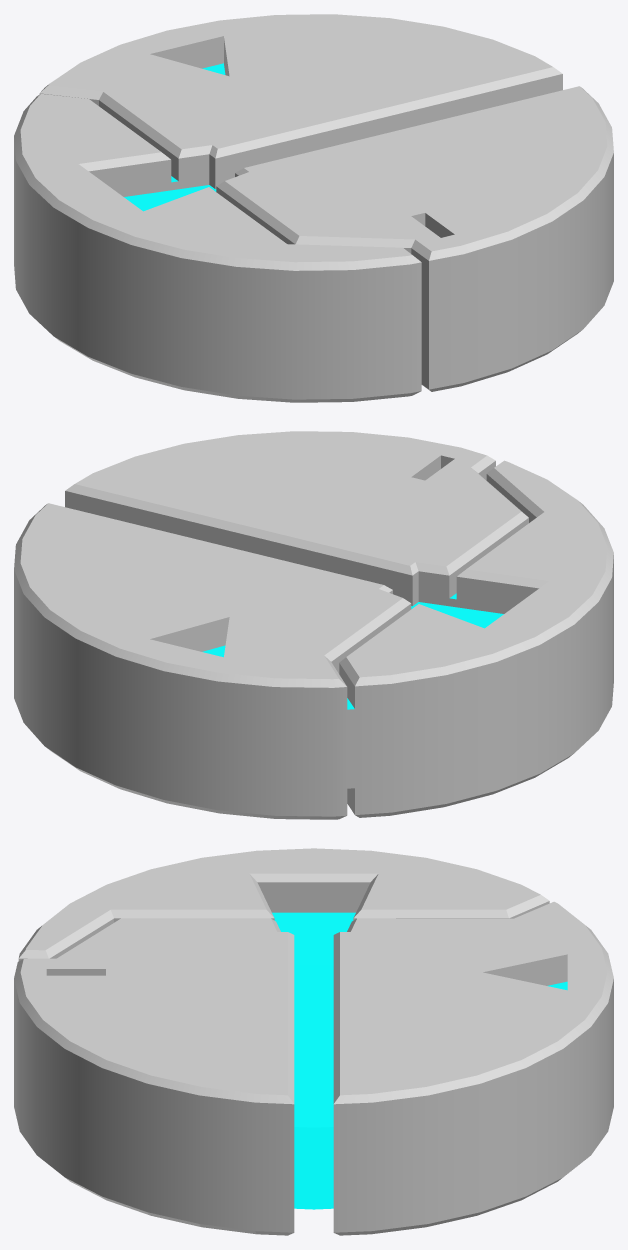
The model's file is lineHajiki.gltf.
3 views of the same model, one above another, from view 1: azimuth 30°, elevation 25°; view 2: azimuth 150°, elevation 25°; view 3: azimuth 270°, elevation 25° (orthographic).
Visible parts, largest first — view 1: Cylinder.004; view 2: Cylinder.004; view 3: Cylinder.004.
Part boxes in pixels (x1=…): Cylinder.004: x1=14, y1=14, x2=613, y2=402; Cylinder.004: x1=14, y1=431, x2=613, y2=819; Cylinder.004: x1=14, y1=848, x2=613, y2=1235.
Size of the model in its own units: 0.04 by 0.0103 by 0.04.
